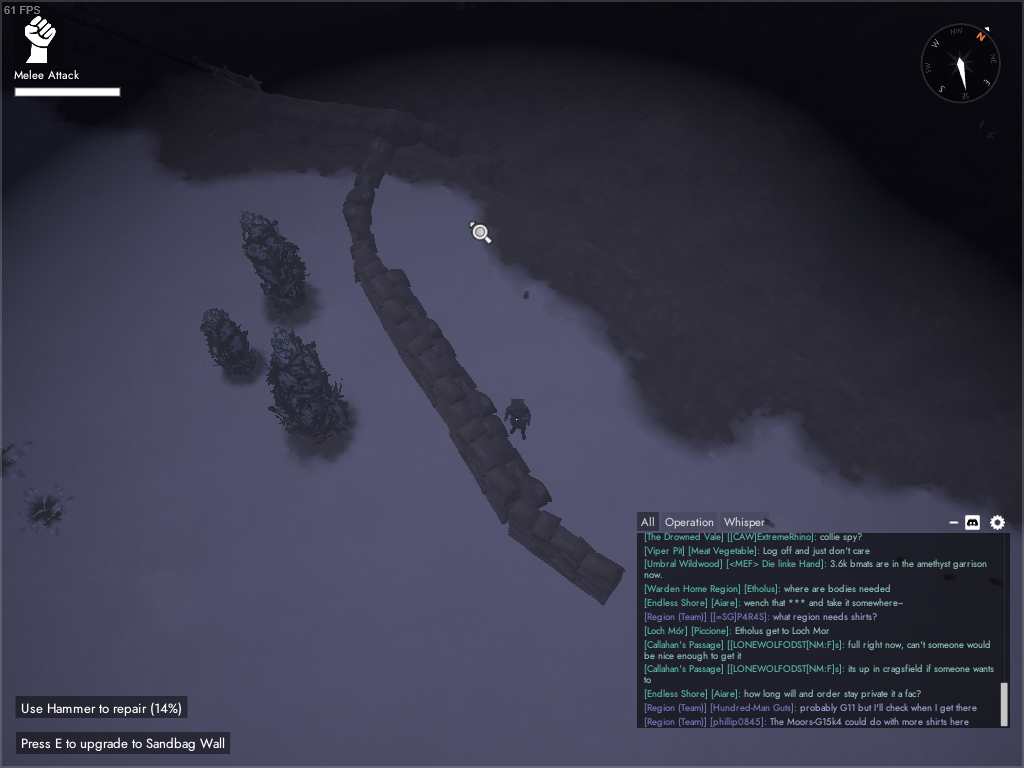player: (502, 398, 532, 440)
sandbag: (435, 375, 554, 525), (361, 269, 477, 409), (507, 499, 626, 606), (342, 134, 394, 212), (341, 209, 391, 285)
